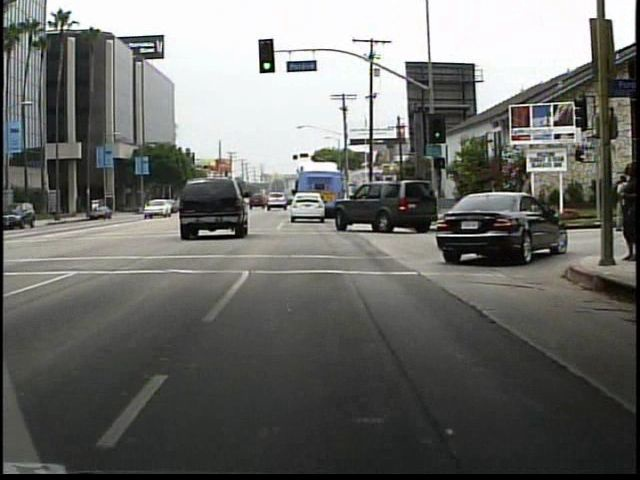person: (614, 163, 634, 262), (476, 176, 508, 237), (611, 172, 631, 235), (514, 172, 536, 225)
